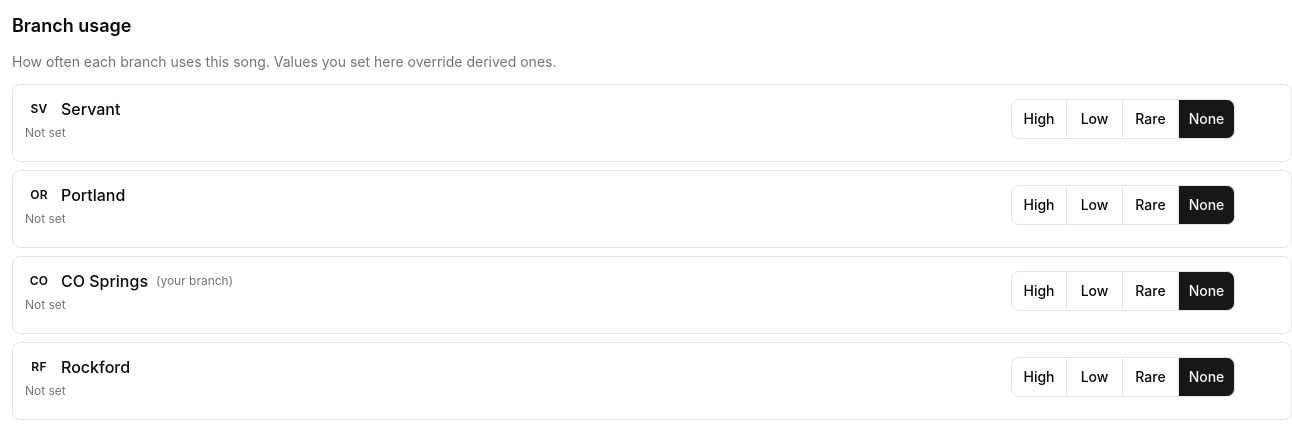
Test: UsageSection › sets Low for a branch
Click the radio button labelled "Low" in the row of "Portland".
click(1095, 205)  # box [1067,185,1123,225]
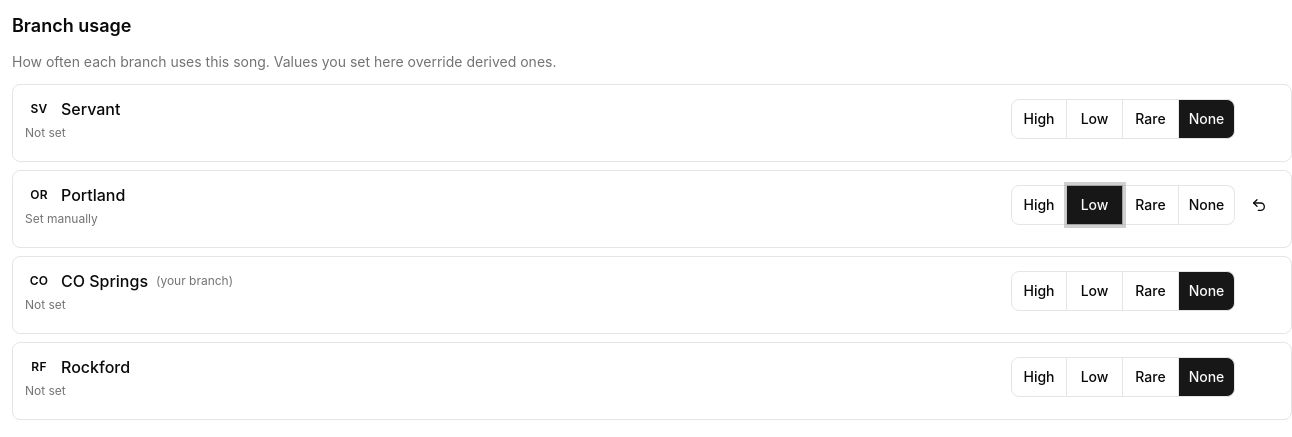
Now the text "Set manually" is shown, box [25,211,98,226]
